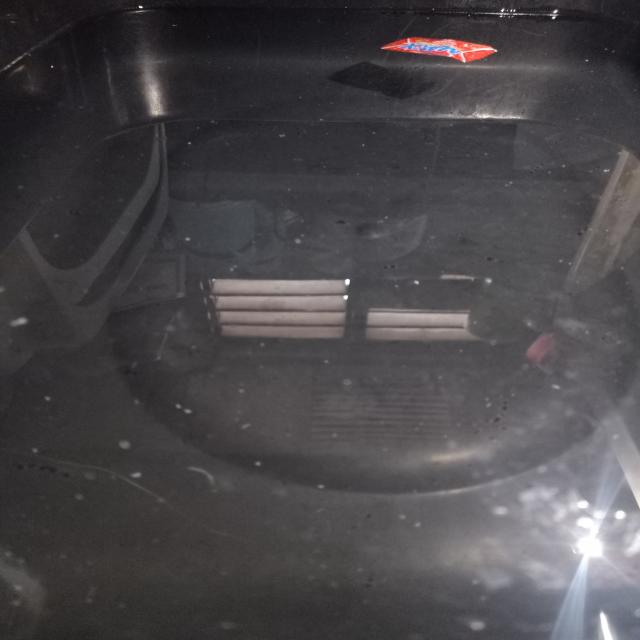Plastic Wrapper: (381, 37, 496, 63)
